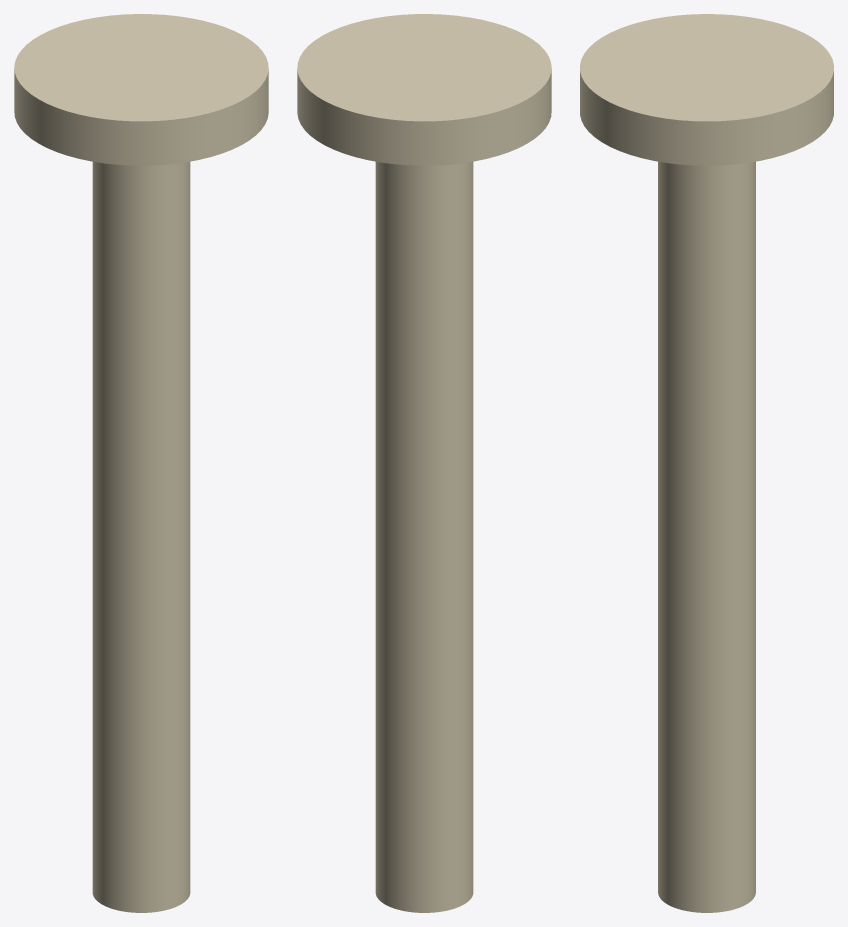
The model's file is evp-follower.glb.
3 renders of one model, left to right at view 1: azimuth 30°, elevation 25°; view 2: azimuth 150°, elevation 25°; view 3: azimuth 270°, elevation 25°, orthographic.
Visible parts, largest first — view 1: world; view 2: world; view 3: world.
Boxes of the visible parts, x1,y1,x2,y2 form: world: [14, 14, 268, 912]; world: [297, 14, 551, 912]; world: [580, 14, 833, 912].
Bounding box in the file's own units: 0.013 × 0.0465 × 0.013.
